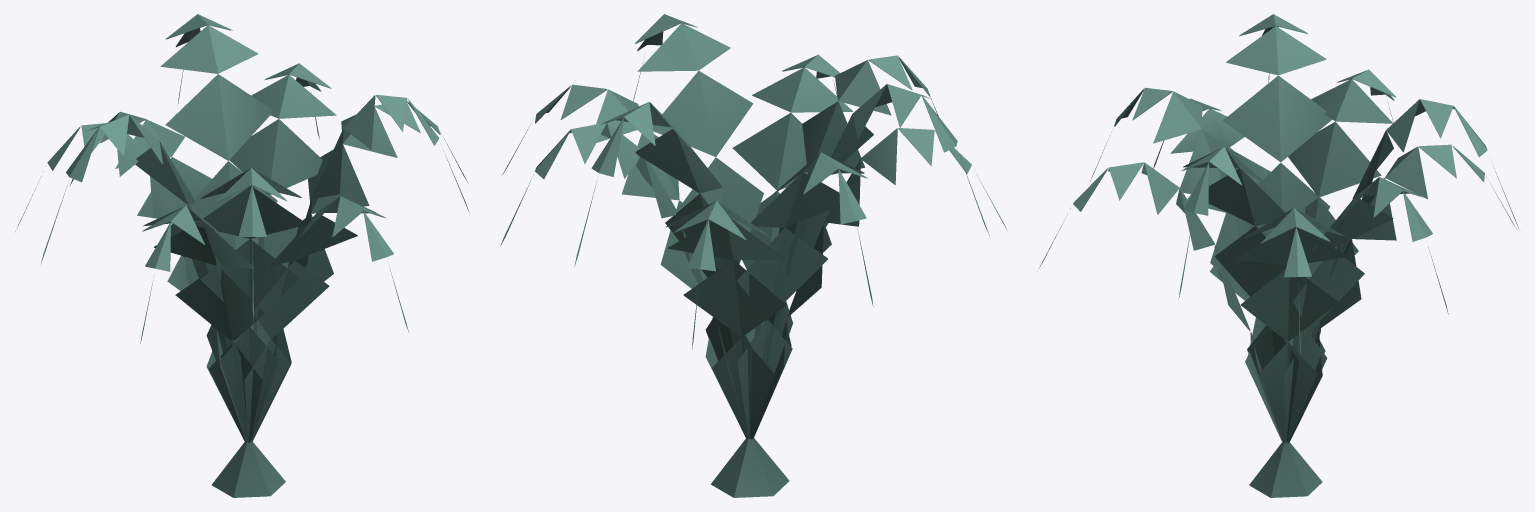
File: fern_tall.glb
3 renders of one model, left to right at view 1: azimuth 30°, elevation 25°; view 2: azimuth 150°, elevation 25°; view 3: azimuth 270°, elevation 25°, orthographic. The views are drawn at different scales.
Bounding box in the file's own units: 1.1 × 0.9474 × 1.04.
